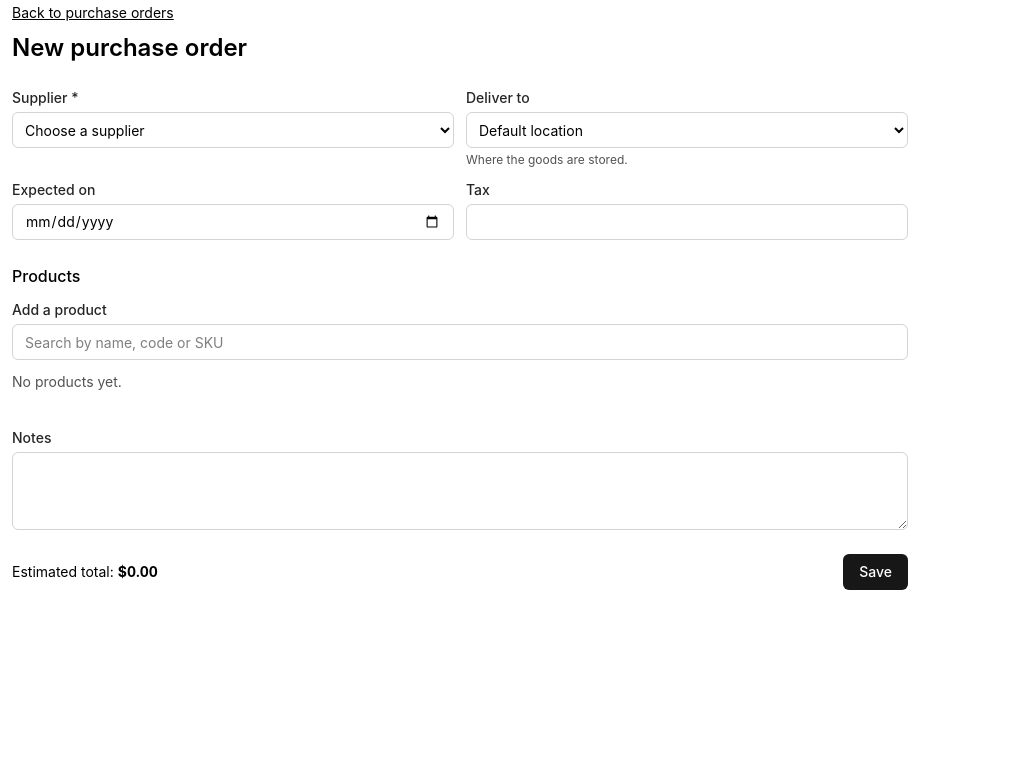
Test: PurchaseForm › needs a supplier and at least one line
Click the button "Save" at point(876, 572), box [843,554,908,590]
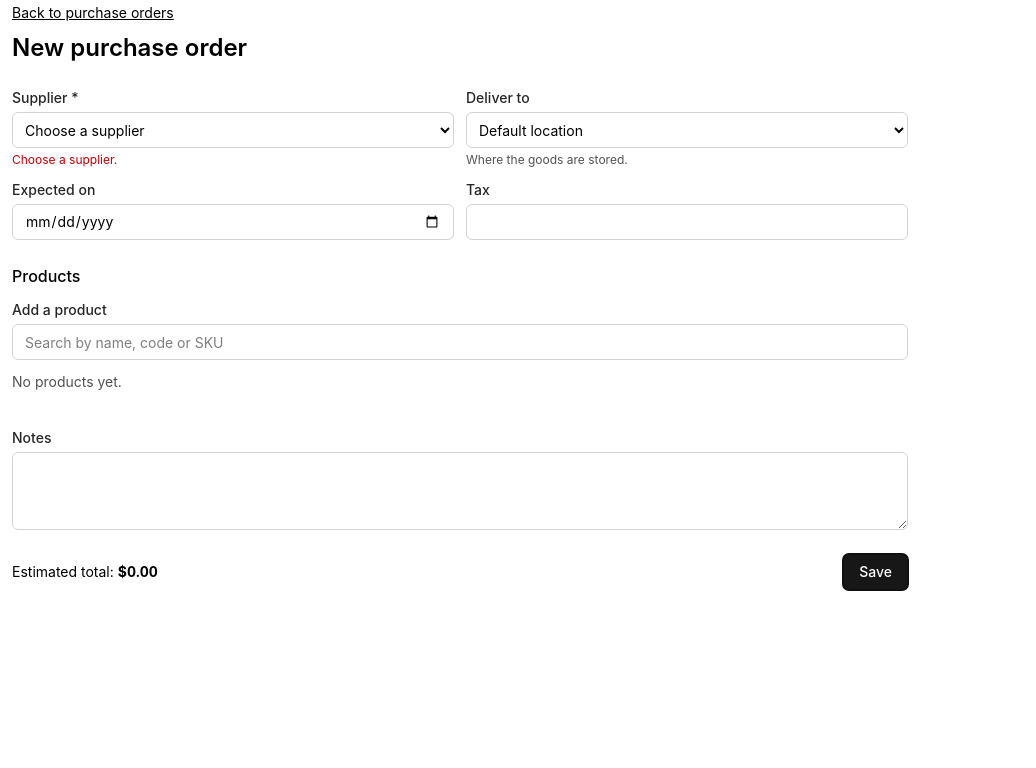
expect the text "Choose a supplier." is shown: met, box [12,152,117,167]
Select "Timber Co" in the dropdown labelled "Supplier *" at point(233, 130), box [12,112,454,148]
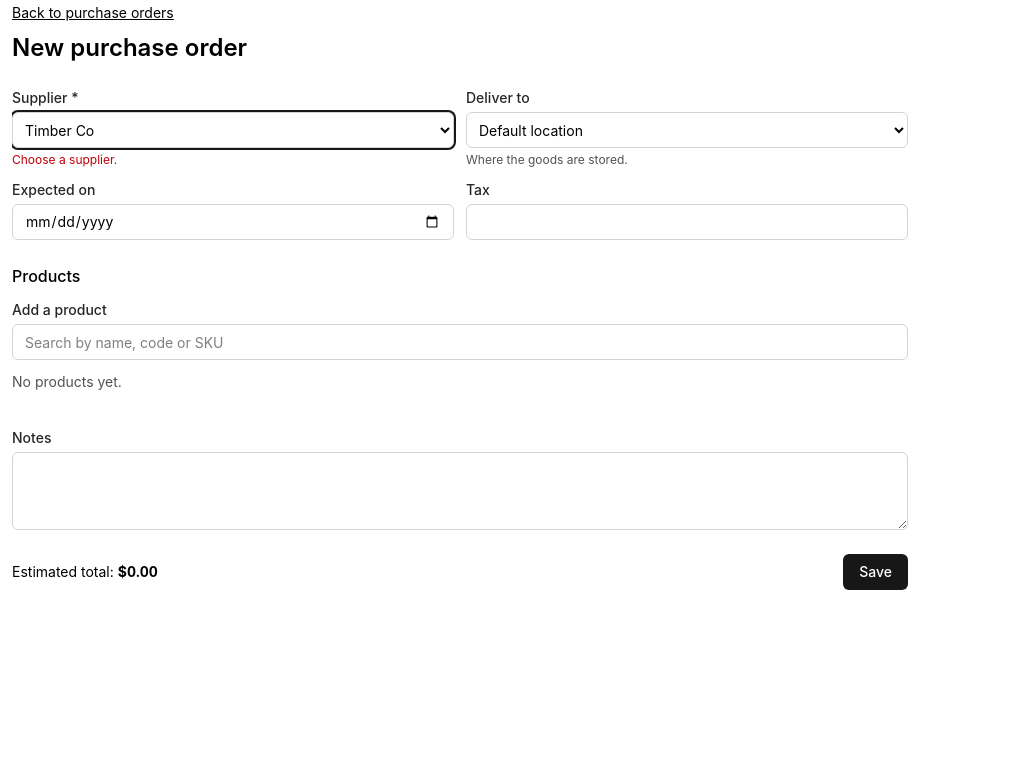
Click the button "Save" at point(876, 572), box [843,554,908,590]
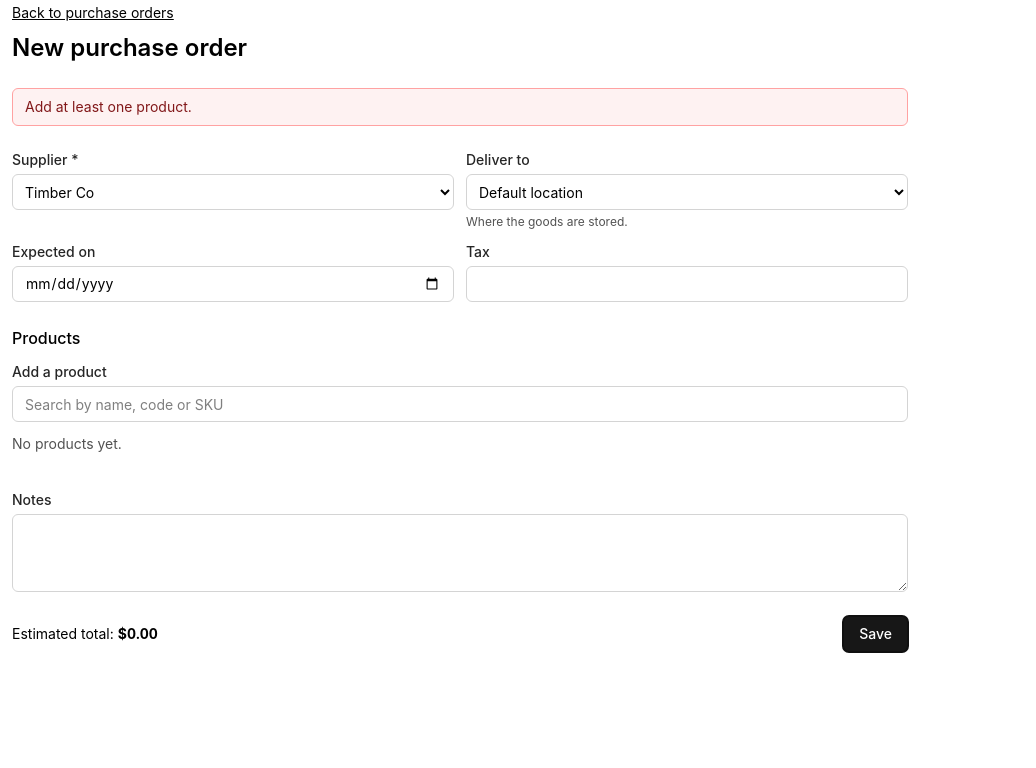
expect the text "Add at least one product." is shown: met, box [12,88,908,126]
